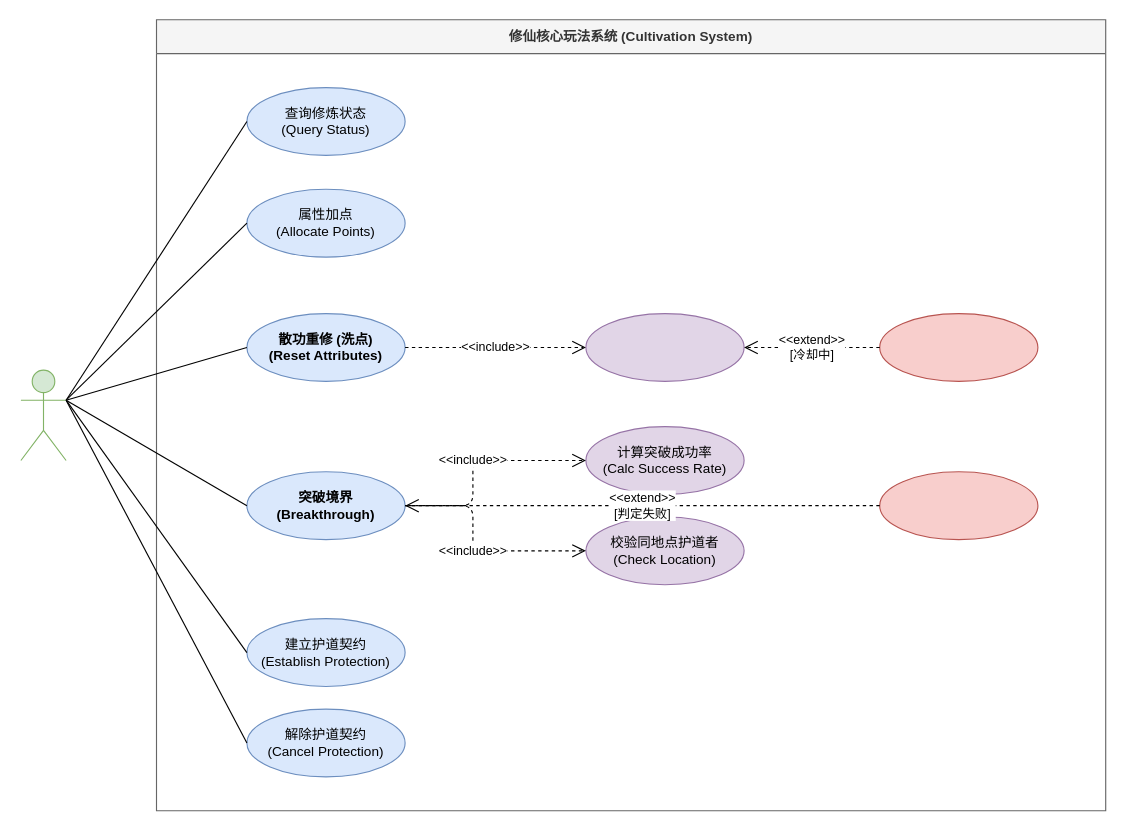
This 1125x831 diagram has some shape labels left out. The shapes that lost their labels are listed below. From the top down, each one's centre as x and y in pixels, then its label:
At (x=664, y=346): "检查洗点冷却 (Check Cooldown)".
At (x=958, y=346): "提示冷却未满 (Prompt Cooldown)".
At (x=43, y=414): "玩家 (Player)".
At (x=958, y=505): "处理突破失败/雷劫 (Handle Failure)".
